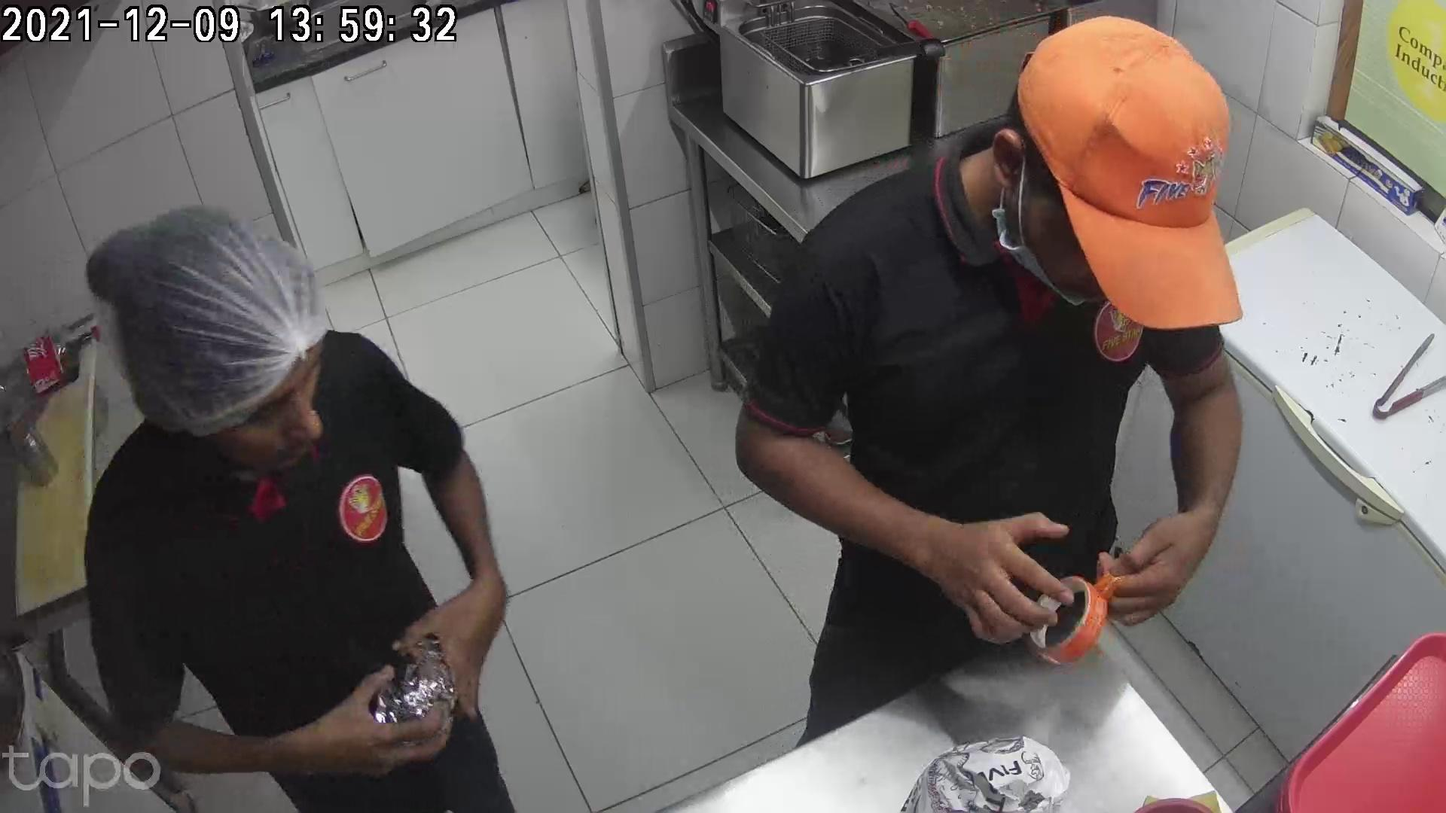no_gloves: (901, 513, 1057, 649), (1104, 502, 1227, 616)
